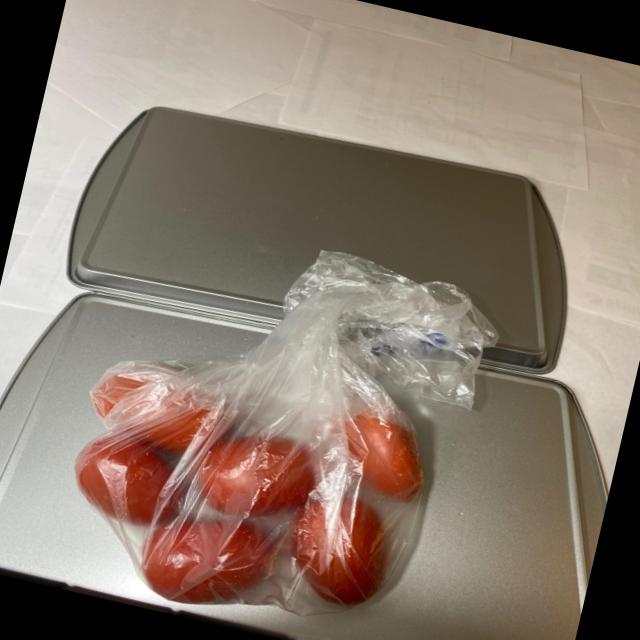tomato: (48, 334, 450, 640)
